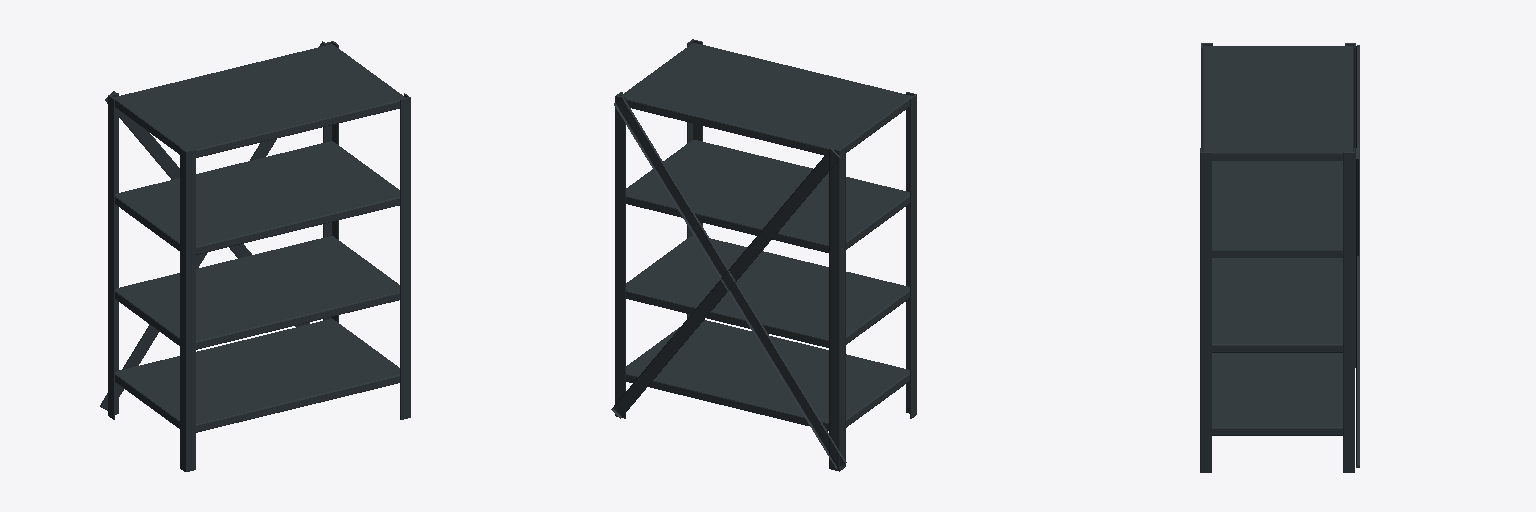
The model's file is steelRack.obj.
The picture shows the model from 3 angles: view 1: azimuth 30°, elevation 25°; view 2: azimuth 150°, elevation 25°; view 3: azimuth 270°, elevation 25°; orthographic projection.
Visible parts, largest first — view 1: steeelRack; view 2: steeelRack; view 3: steeelRack.
Part boxes in pixels (left/top/right/bottom): steeelRack: left=100, top=41, right=410, bottom=471; steeelRack: left=611, top=39, right=916, bottom=471; steeelRack: left=1200, top=43, right=1359, bottom=472.
Bounding box in the file's own units: 144 × 189 × 84.89.